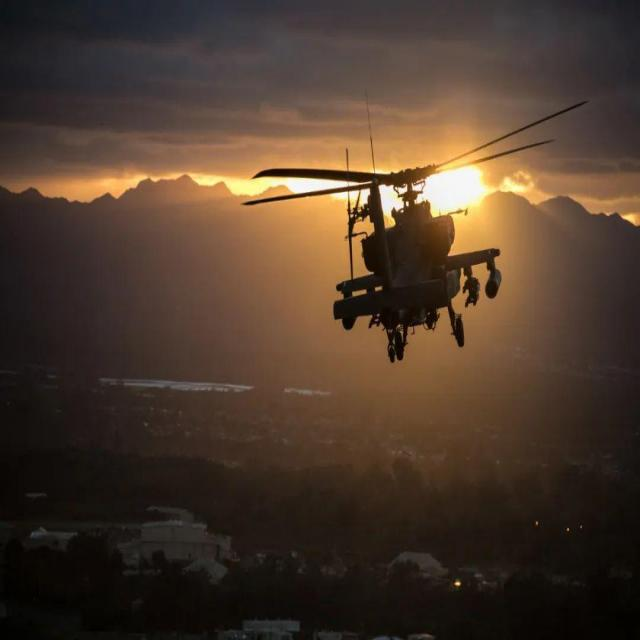MIL_HELO: (247, 94, 593, 368)
